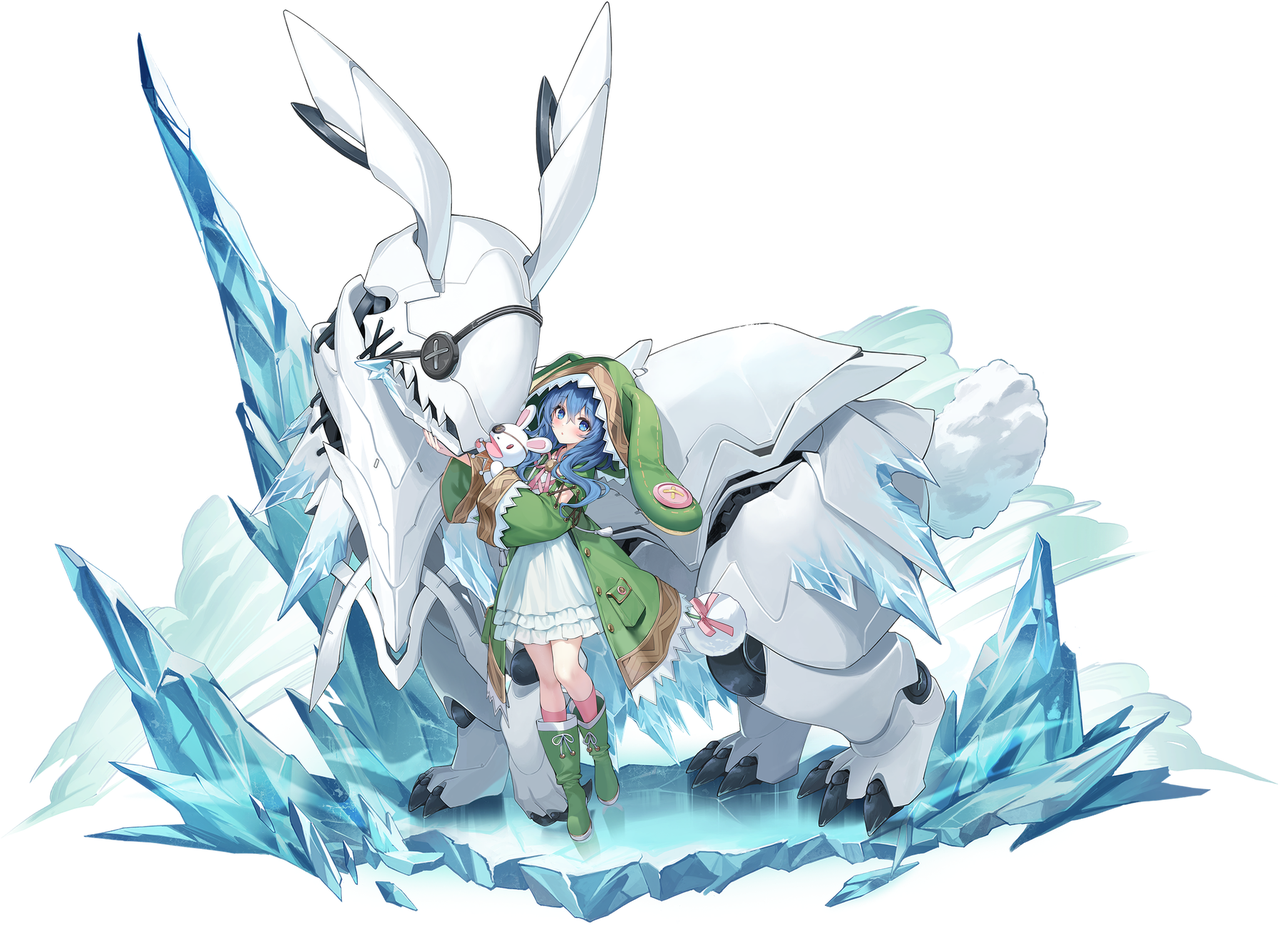person: (402, 323, 704, 870)
